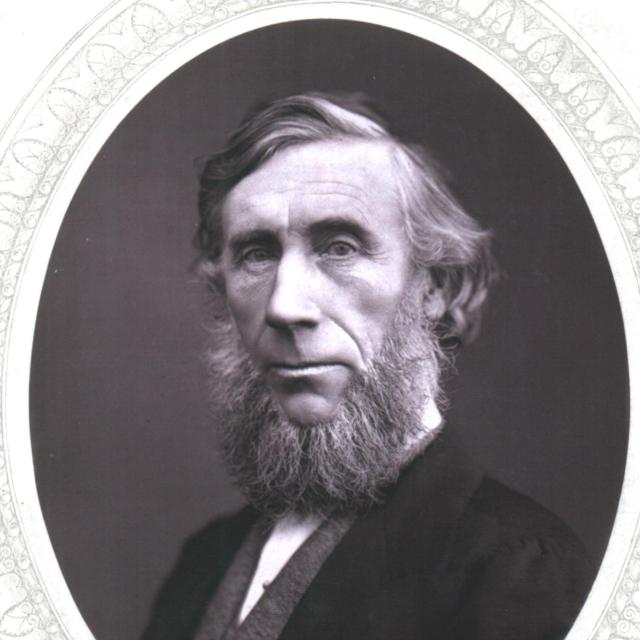no-glass: (233, 240, 370, 272)
